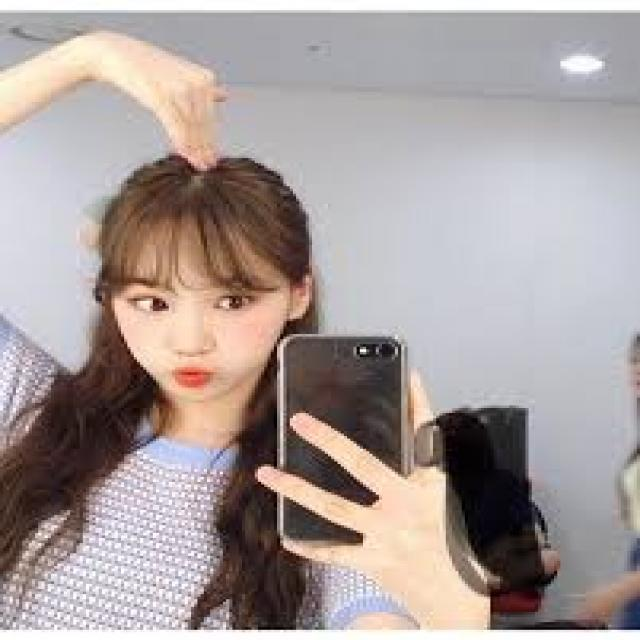Phone: (278, 332, 410, 538)
